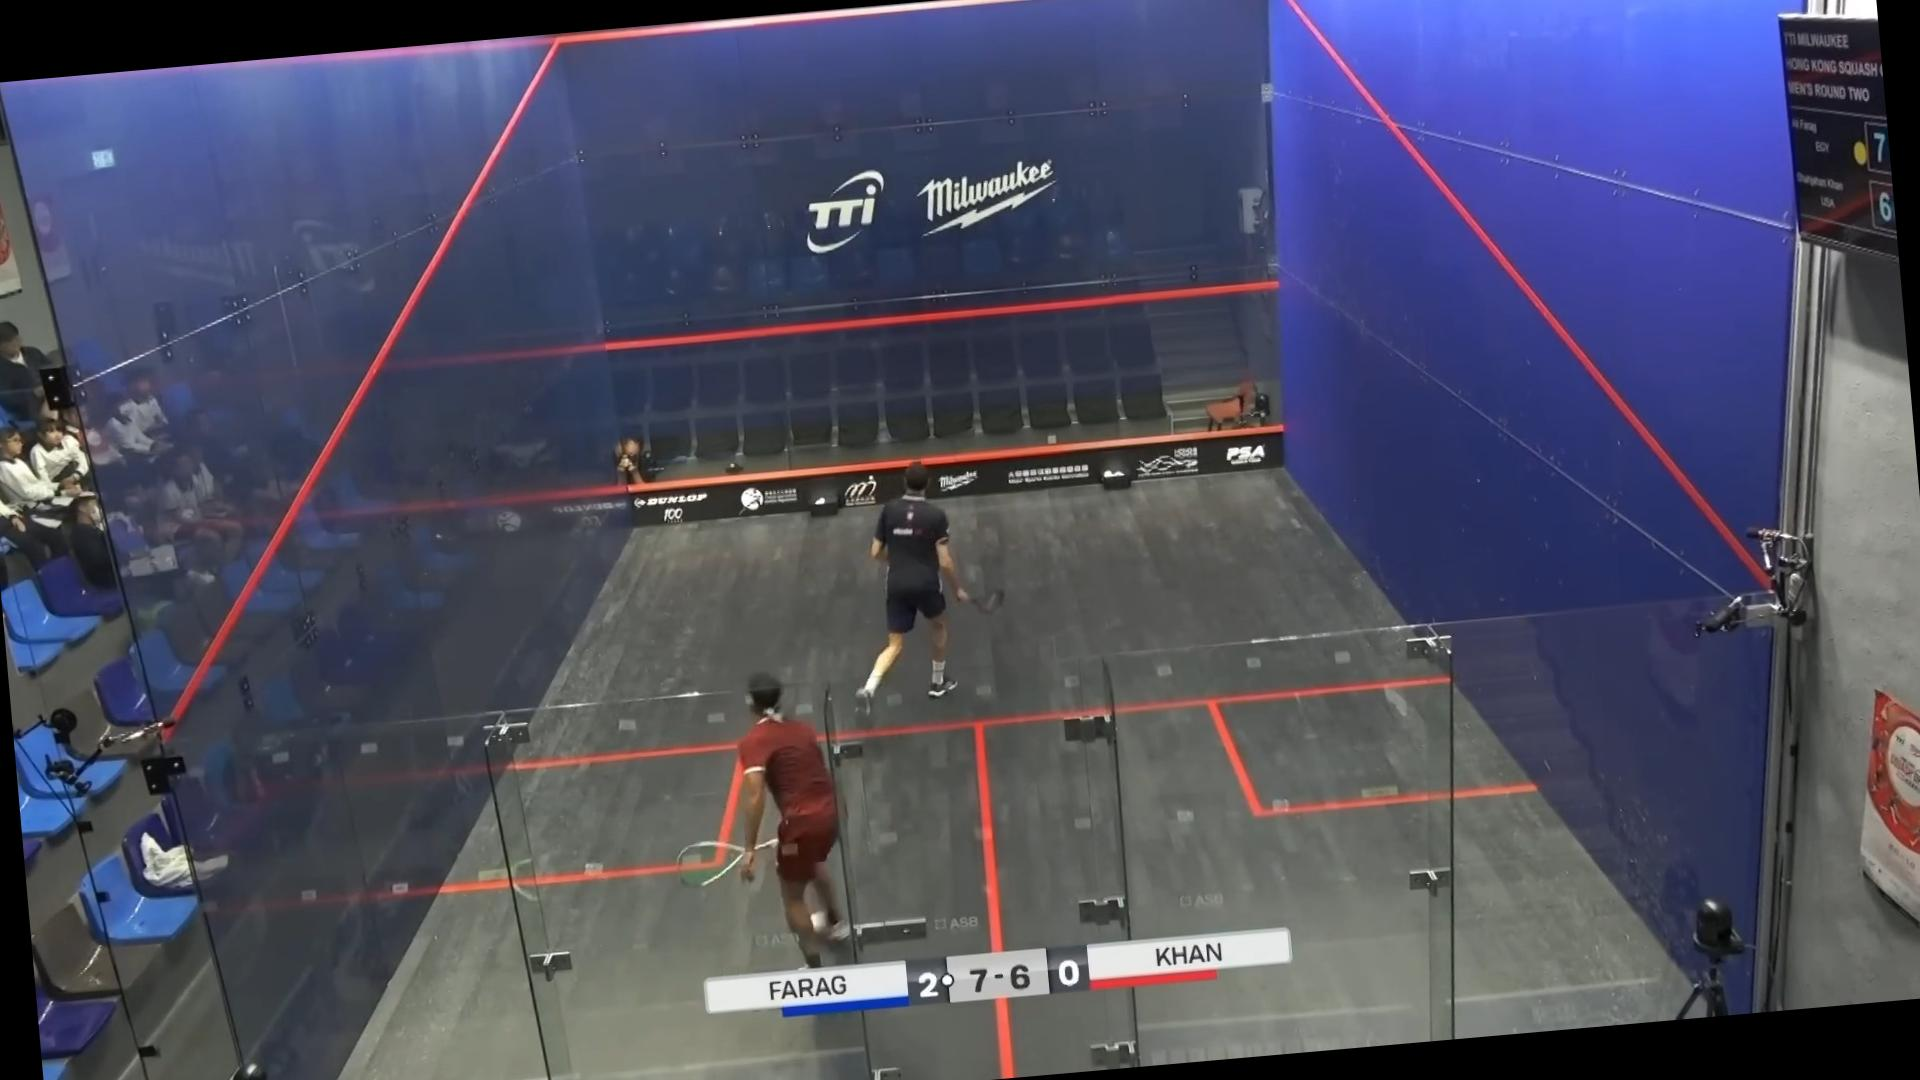Racket: (671, 836, 778, 894)
